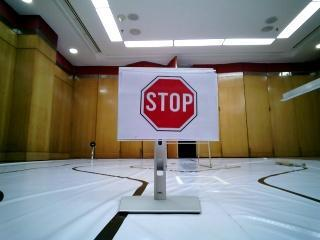stop: (135, 68, 203, 135)
